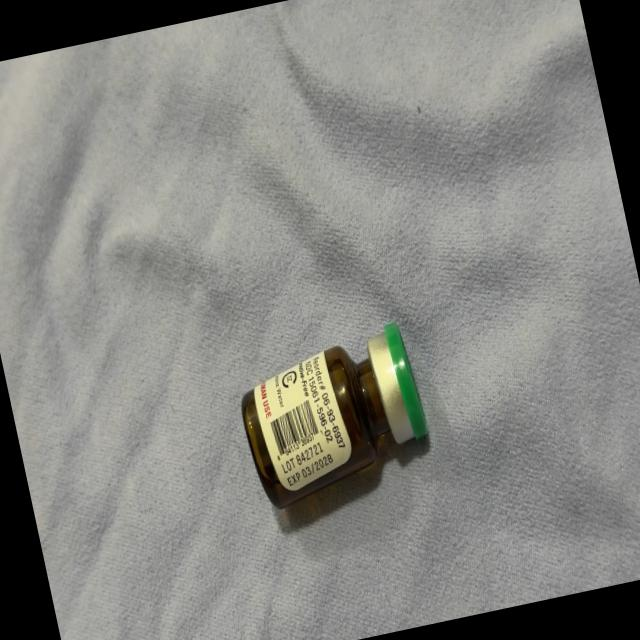midazolm: (233, 322, 433, 508)
